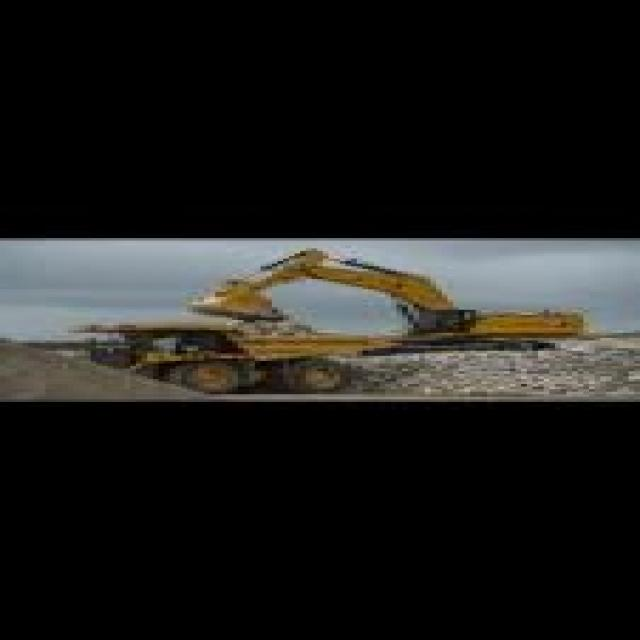dump_truck: (93, 325, 363, 393)
